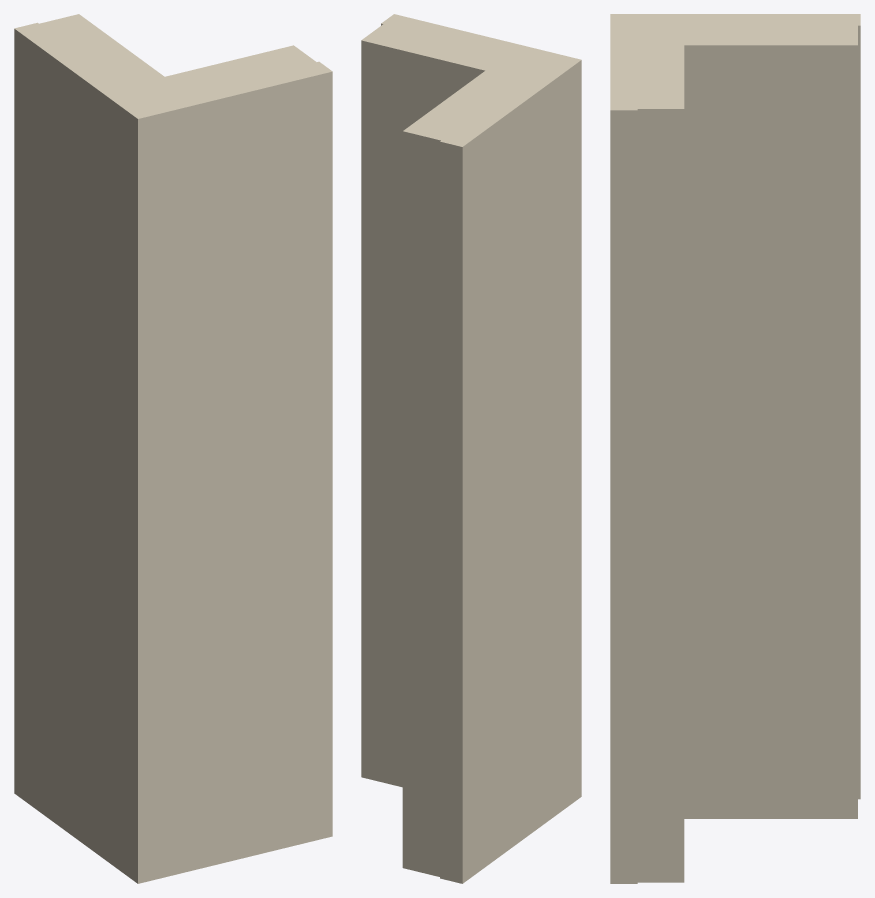
The picture shows the model from 3 angles, left to right: view 1: azimuth 30°, elevation 25°; view 2: azimuth 150°, elevation 25°; view 3: azimuth 270°, elevation 25°; orthographic projection. The views are drawn at different scales.
Parts seen in each view (by area): view 1: A-FF-WALL-003; view 2: A-FF-WALL-003; view 3: A-FF-WALL-003.
Boxes of the visible parts, x1,y1,x2,y2 form: A-FF-WALL-003: (14, 14, 332, 883); A-FF-WALL-003: (361, 14, 581, 883); A-FF-WALL-003: (610, 14, 860, 883).
Size of the model in its own units: 0.645 by 2.42 by 0.71.
